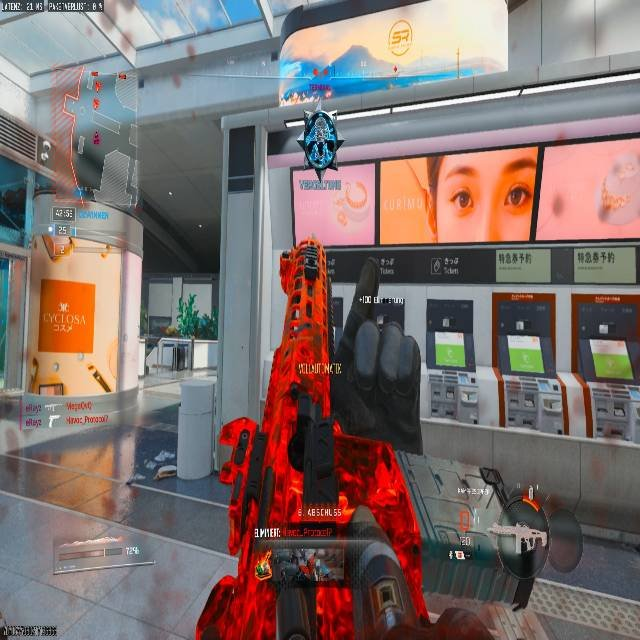player: (290, 239, 329, 305), (302, 107, 339, 176)
